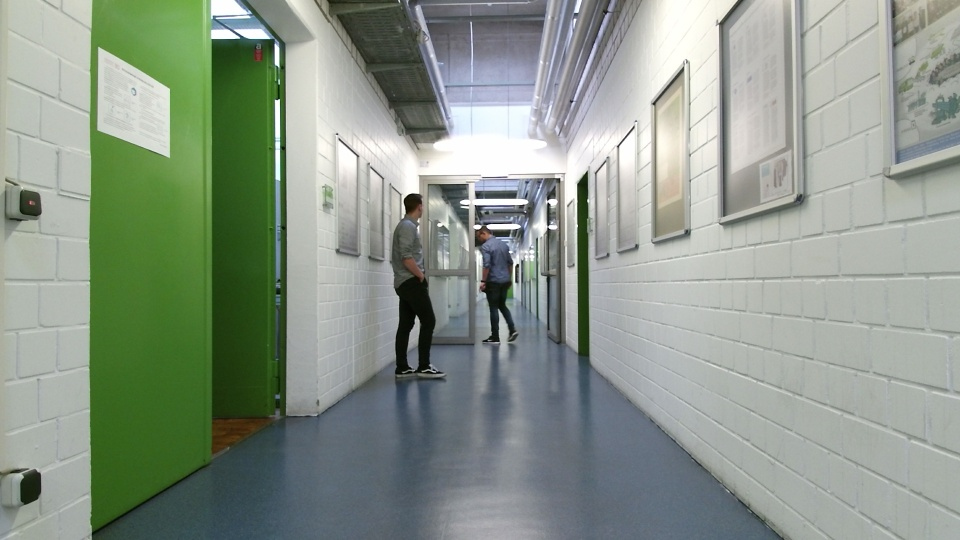Person: (387, 188, 449, 385), (474, 220, 523, 350)
